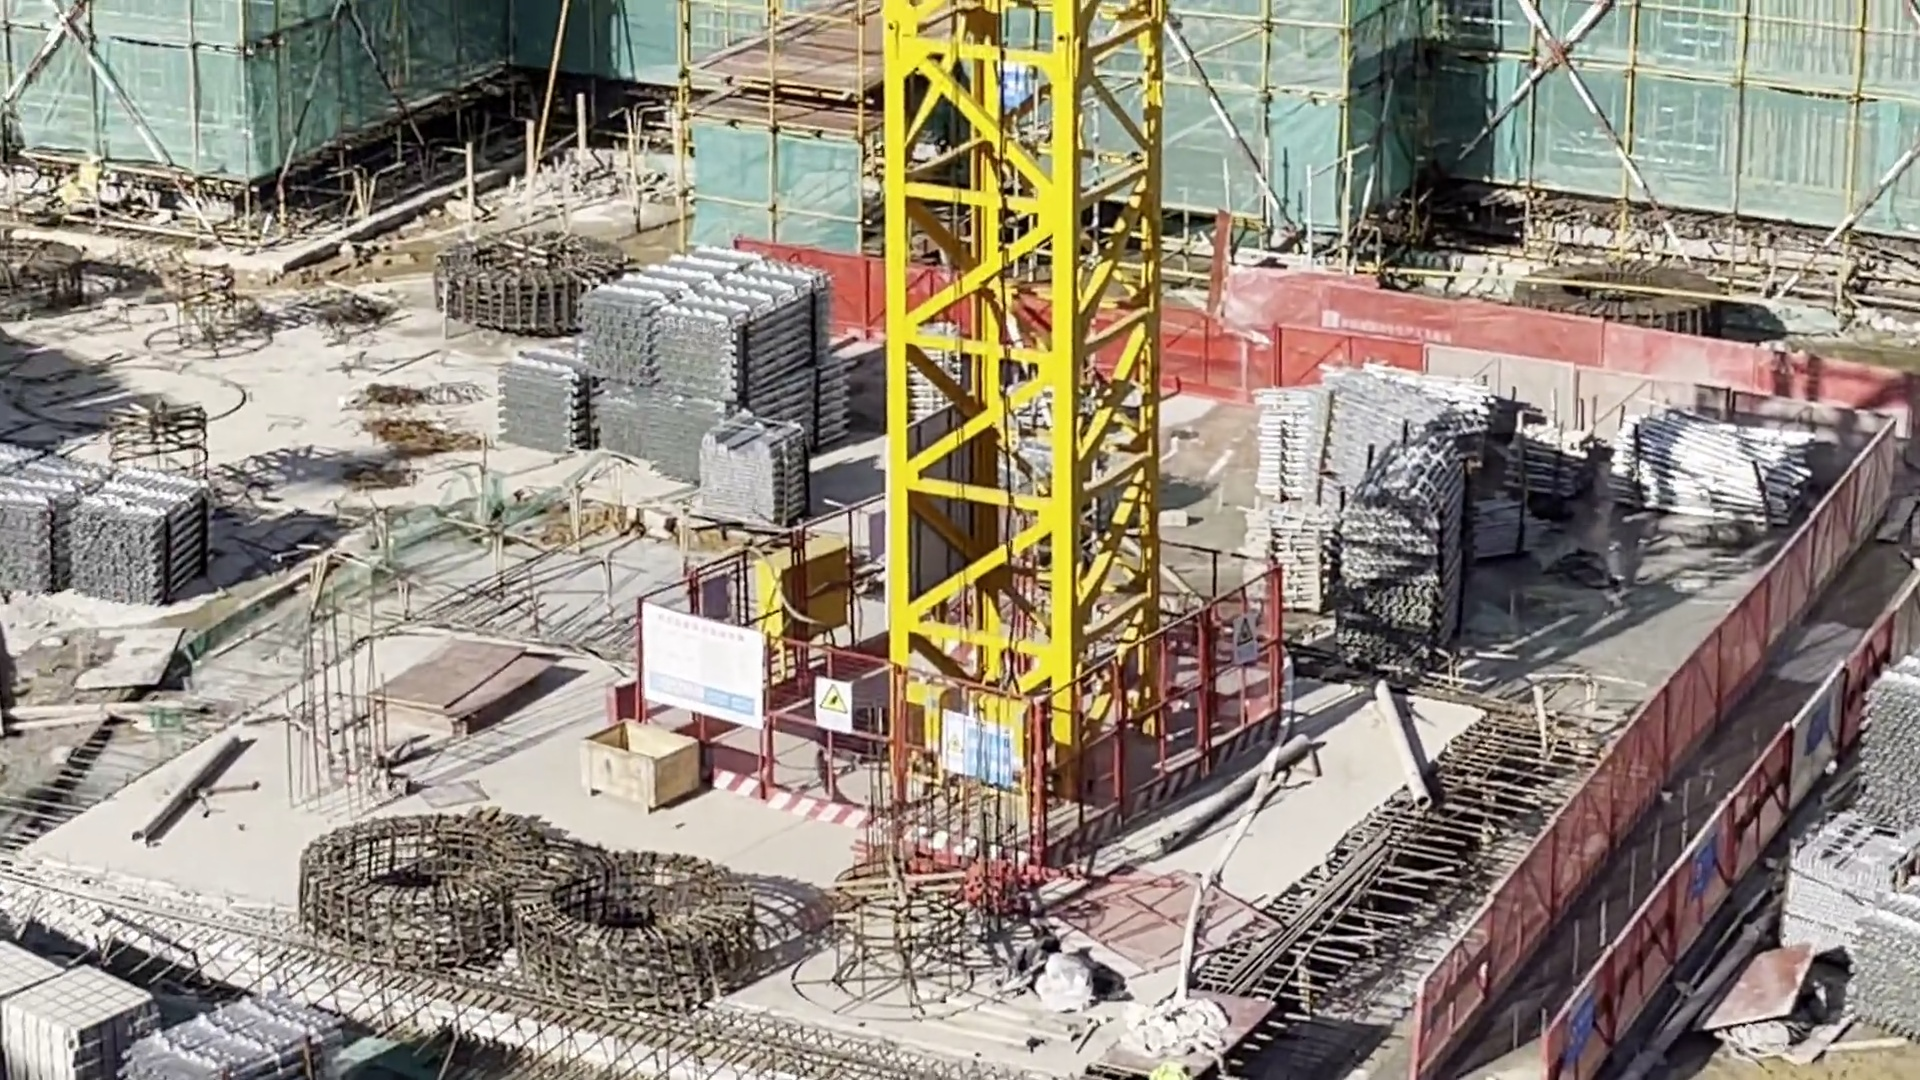ebox: (909, 674, 1029, 786), (760, 541, 855, 651)
fence: (1433, 713, 1801, 1059), (641, 611, 1029, 866), (1416, 287, 1904, 469), (1631, 489, 1919, 754), (814, 256, 1379, 382), (1025, 583, 1283, 828)
rebar: (1218, 829, 1381, 1010)
scaffold: (589, 272, 823, 459), (1352, 386, 1473, 617), (1797, 808, 1920, 1018), (1634, 411, 1793, 566), (446, 351, 618, 462), (1258, 382, 1324, 593), (98, 462, 200, 574), (688, 419, 778, 520), (8, 440, 69, 572), (1869, 692, 1920, 843), (1514, 421, 1607, 492)
